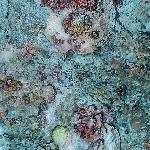dead: (1, 2, 146, 145)
